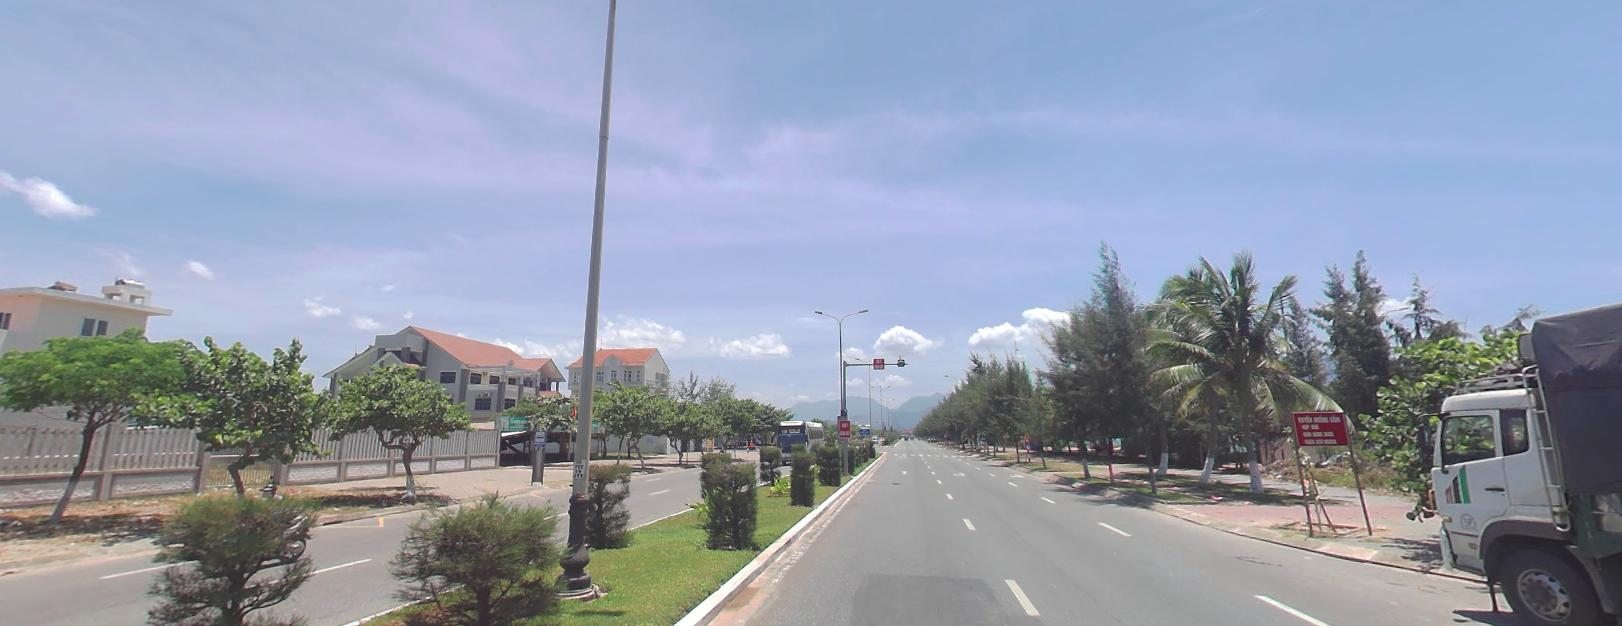Cam nguoc chieu: (880, 433, 884, 435)
Nguy hiem: (1023, 431, 1029, 437)
